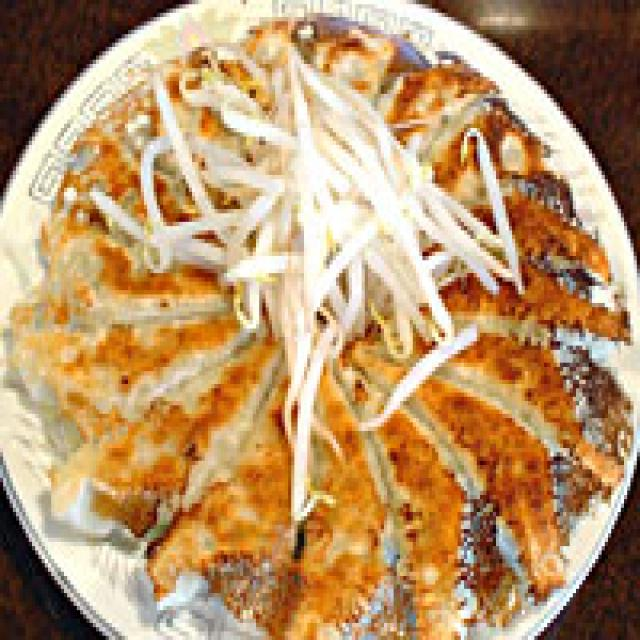带馅早点: (9, 13, 630, 627)
